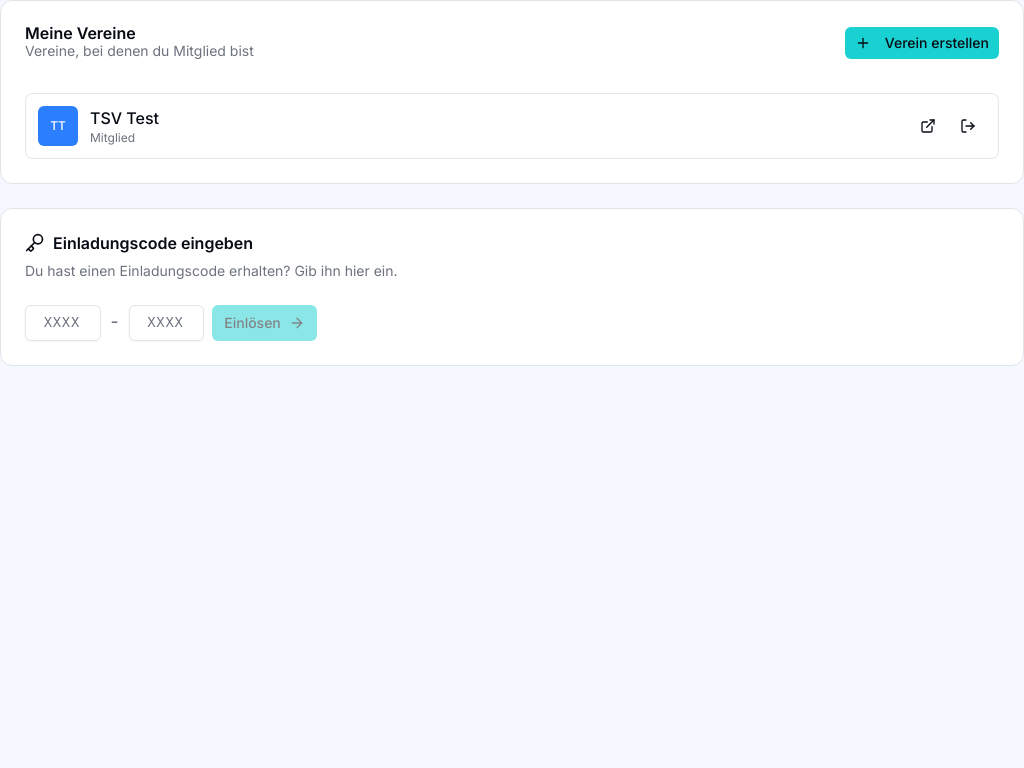
Test: MyClubsPage › leave club › accepts case-insensitive confirmation
Click the button titled "Verein verlassen" at (968, 126), box [950,108,986,144]
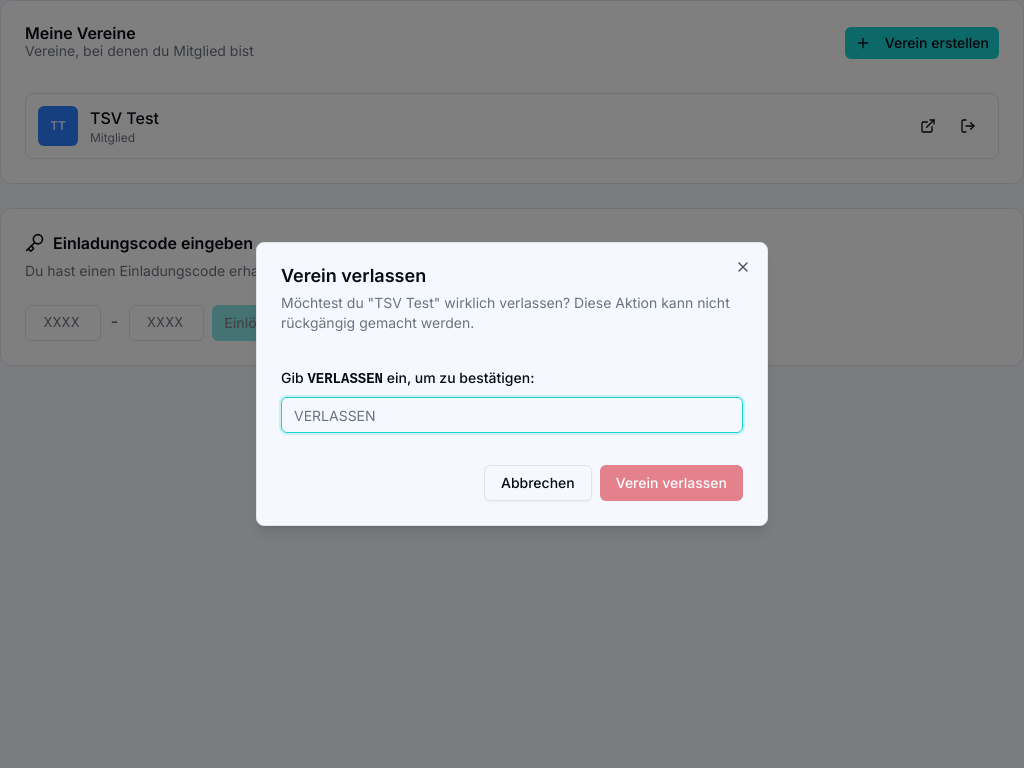
# Type in lowercase - should still work
Type "verlassen" into the field with placeholder "VERLASSEN" at (512, 415), box [281,397,743,433]
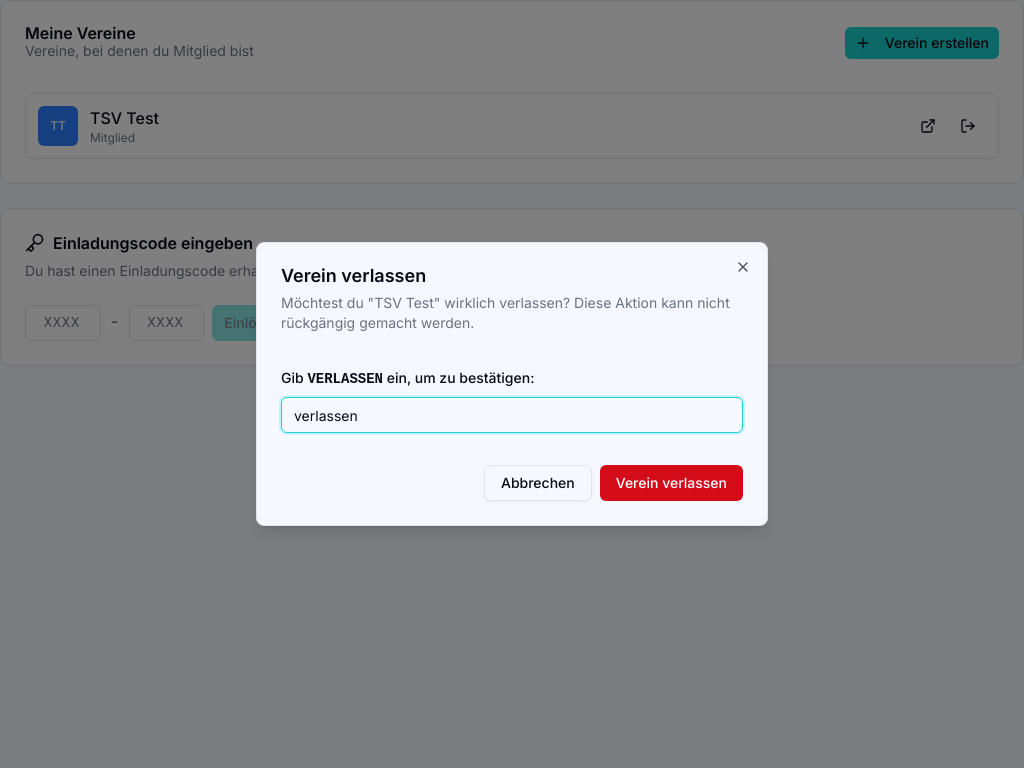
Now the button "Verein verlassen" is enabled, box [600,465,743,501]
